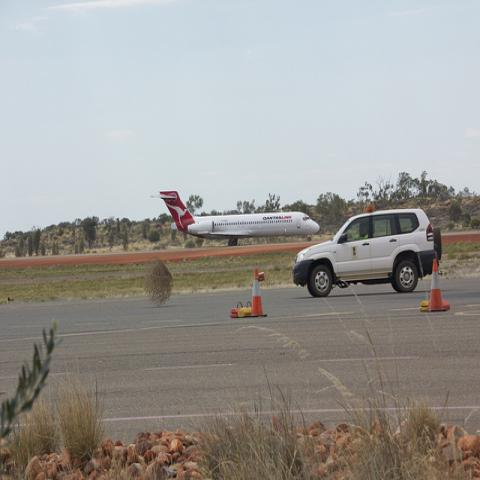car: (292, 206, 441, 298)
truck: (294, 203, 436, 300)
